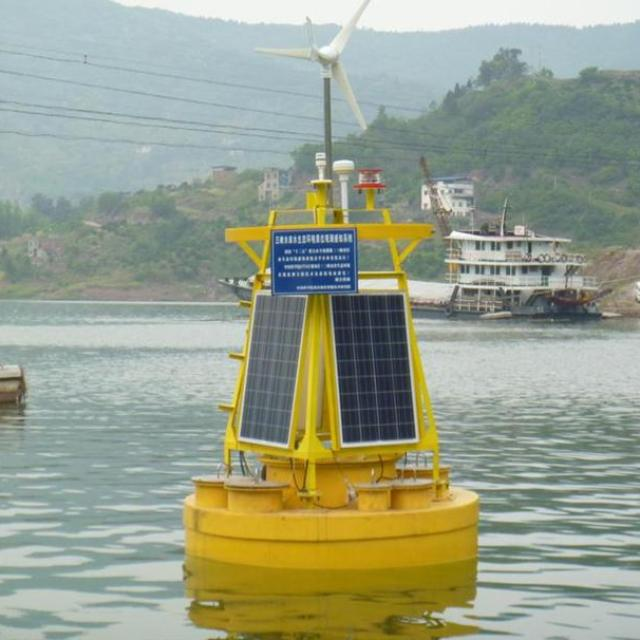buoy: (177, 0, 484, 567)
